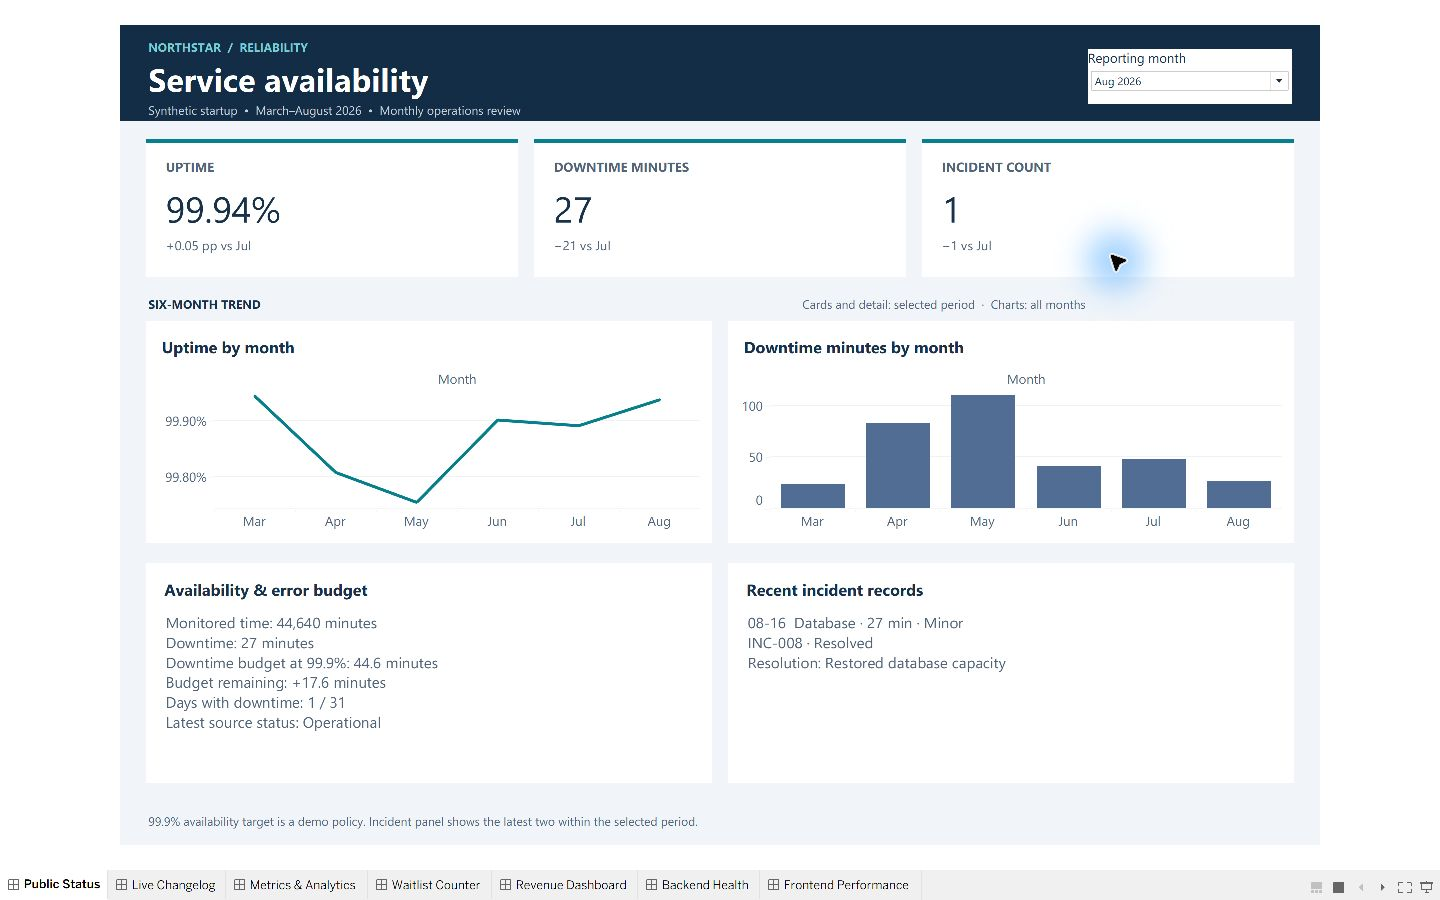

The dashboard page shown, as its layout file describes it:
{"tool":"tableau","page":{"name":"Public Status","canvas":[1200,820],"ordinal":4},"visuals":[{"type":"text","box":[0,0,1200,820]},{"type":"text","box":[0,0,1200,96]},{"type":"text","box":[26,12,800,20]},{"type":"parameter","param":"[Parameters].[Period]","box":[968,24,204,55]},{"type":"text","box":[26,34,830,40]},{"type":"text","box":[26,76,840,18]},{"type":"text","box":[26,114,372,138]},{"type":"text","box":[26,114,372,4]},{"type":"text","box":[414,114,372,138]},{"type":"text","box":[414,114,372,4]},{"type":"text","box":[802,114,372,138]},{"type":"text","box":[802,114,372,4]},{"type":"worksheet","title":"01 KPI 1 Uptime","mark":"Text","box":[42,129,340,74]},{"type":"worksheet","title":"01 KPI 2 Downtime minutes","mark":"Text","box":[430,129,340,74]},{"type":"worksheet","title":"01 KPI 3 Incident count","mark":"Text","box":[818,129,340,74]},{"type":"worksheet","title":"D01 delta 1","mark":"Text","box":[42,211,340,29]},{"type":"worksheet","title":"D01 delta 2","mark":"Text","box":[430,211,340,29]},{"type":"worksheet","title":"D01 delta 3","mark":"Text","box":[818,211,340,29]},{"type":"text","box":[26,268,500,22]},{"type":"text","box":[680,268,492,22]},{"type":"text","box":[26,296,566,222]},{"type":"text","box":[608,296,566,222]},{"type":"worksheet","title":"01 Trend 1","mark":"Line","rows":["history_uptime"],"cols":["Month"],"box":[38,307,542,199]},{"type":"worksheet","title":"01 Trend 2","mark":"Bar","rows":["history_downtime"],"cols":["Month"],"box":[620,307,542,199]},{"type":"text","box":[26,538,566,220]},{"type":"text","box":[608,538,566,220]},{"type":"text","box":[42,551,534,28]},{"type":"text","box":[624,551,534,28]},{"type":"worksheet","title":"D01 detail 1","mark":"Text","box":[42,587,534,157]},{"type":"worksheet","title":"D01 detail 2","mark":"Text","box":[624,587,534,157]},{"type":"text","box":[26,776,1144,40]}]}

Visuals, with their boxes on the page's 1200x820 design canvas (x1, y1, x2, y2). These are canvas units, not pixel positions in the 1440x900 screenshot, which may show the page scaled, cropped or inside an application window:
text: [0, 0, 1200, 820]
text: [0, 0, 1200, 96]
text: [26, 12, 826, 32]
parameter: [968, 24, 1172, 79]
text: [26, 34, 856, 74]
text: [26, 76, 866, 94]
text: [26, 114, 398, 252]
text: [26, 114, 398, 118]
text: [414, 114, 786, 252]
text: [414, 114, 786, 118]
text: [802, 114, 1174, 252]
text: [802, 114, 1174, 118]
"01 KPI 1 Uptime" worksheet (Text marks): [42, 129, 382, 203]
"01 KPI 2 Downtime minutes" worksheet (Text marks): [430, 129, 770, 203]
"01 KPI 3 Incident count" worksheet (Text marks): [818, 129, 1158, 203]
"D01 delta 1" worksheet (Text marks): [42, 211, 382, 240]
"D01 delta 2" worksheet (Text marks): [430, 211, 770, 240]
"D01 delta 3" worksheet (Text marks): [818, 211, 1158, 240]
text: [26, 268, 526, 290]
text: [680, 268, 1172, 290]
text: [26, 296, 592, 518]
text: [608, 296, 1174, 518]
"01 Trend 1" worksheet (Line marks): [38, 307, 580, 506]
"01 Trend 2" worksheet (Bar marks): [620, 307, 1162, 506]
text: [26, 538, 592, 758]
text: [608, 538, 1174, 758]
text: [42, 551, 576, 579]
text: [624, 551, 1158, 579]
"D01 detail 1" worksheet (Text marks): [42, 587, 576, 744]
"D01 detail 2" worksheet (Text marks): [624, 587, 1158, 744]
text: [26, 776, 1170, 816]
